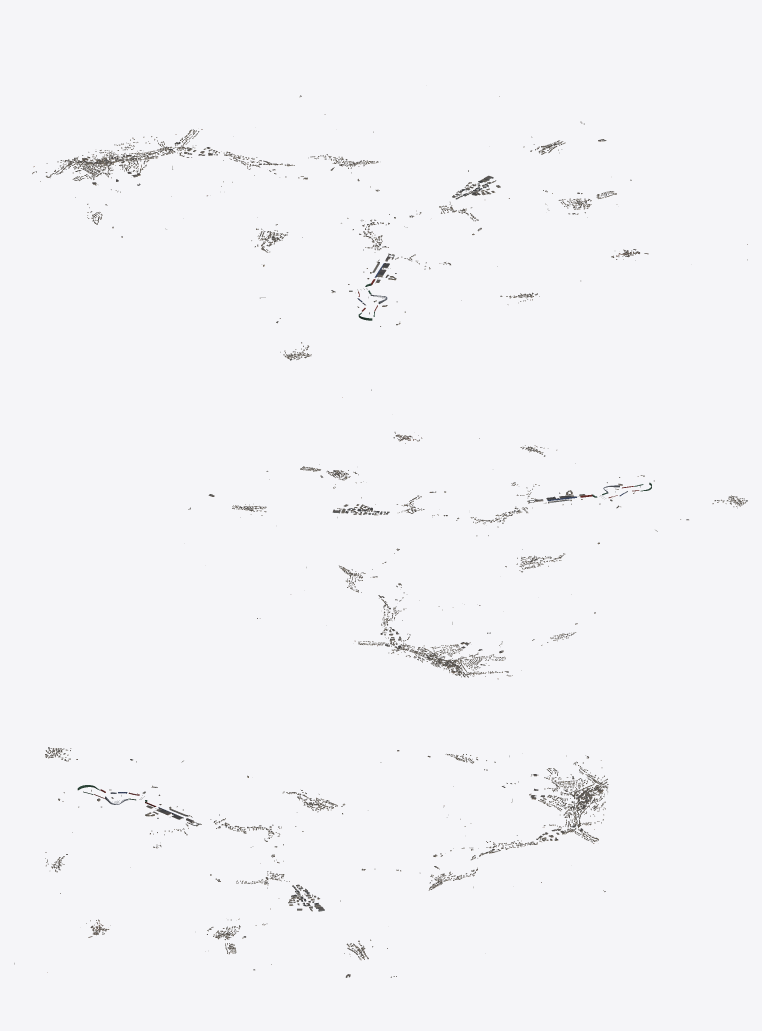
The model's file is scenery.glb.
3 views of the same model, one above another, from view 1: azimuth 30°, elevation 25°; view 2: azimuth 150°, elevation 25°; view 3: azimuth 270°, elevation 25° (orthographic). The views are drawn at different scales.
Size of the model in its own units: 8664 by 373 by 9655.
